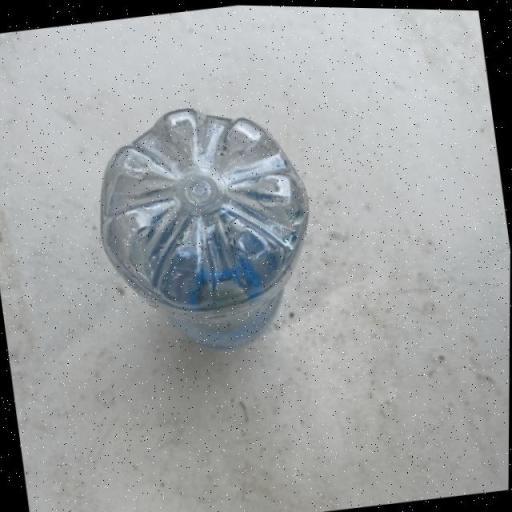plastic: (83, 88, 329, 364)
